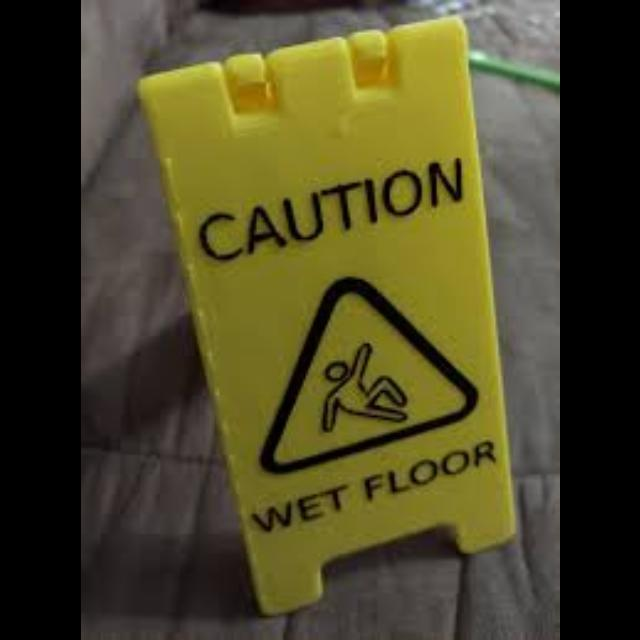slippery_floor: (139, 22, 512, 610)
